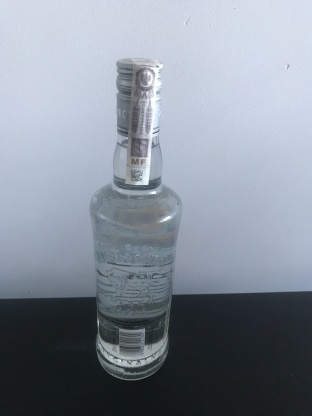nakretka: (114, 53, 164, 141)
